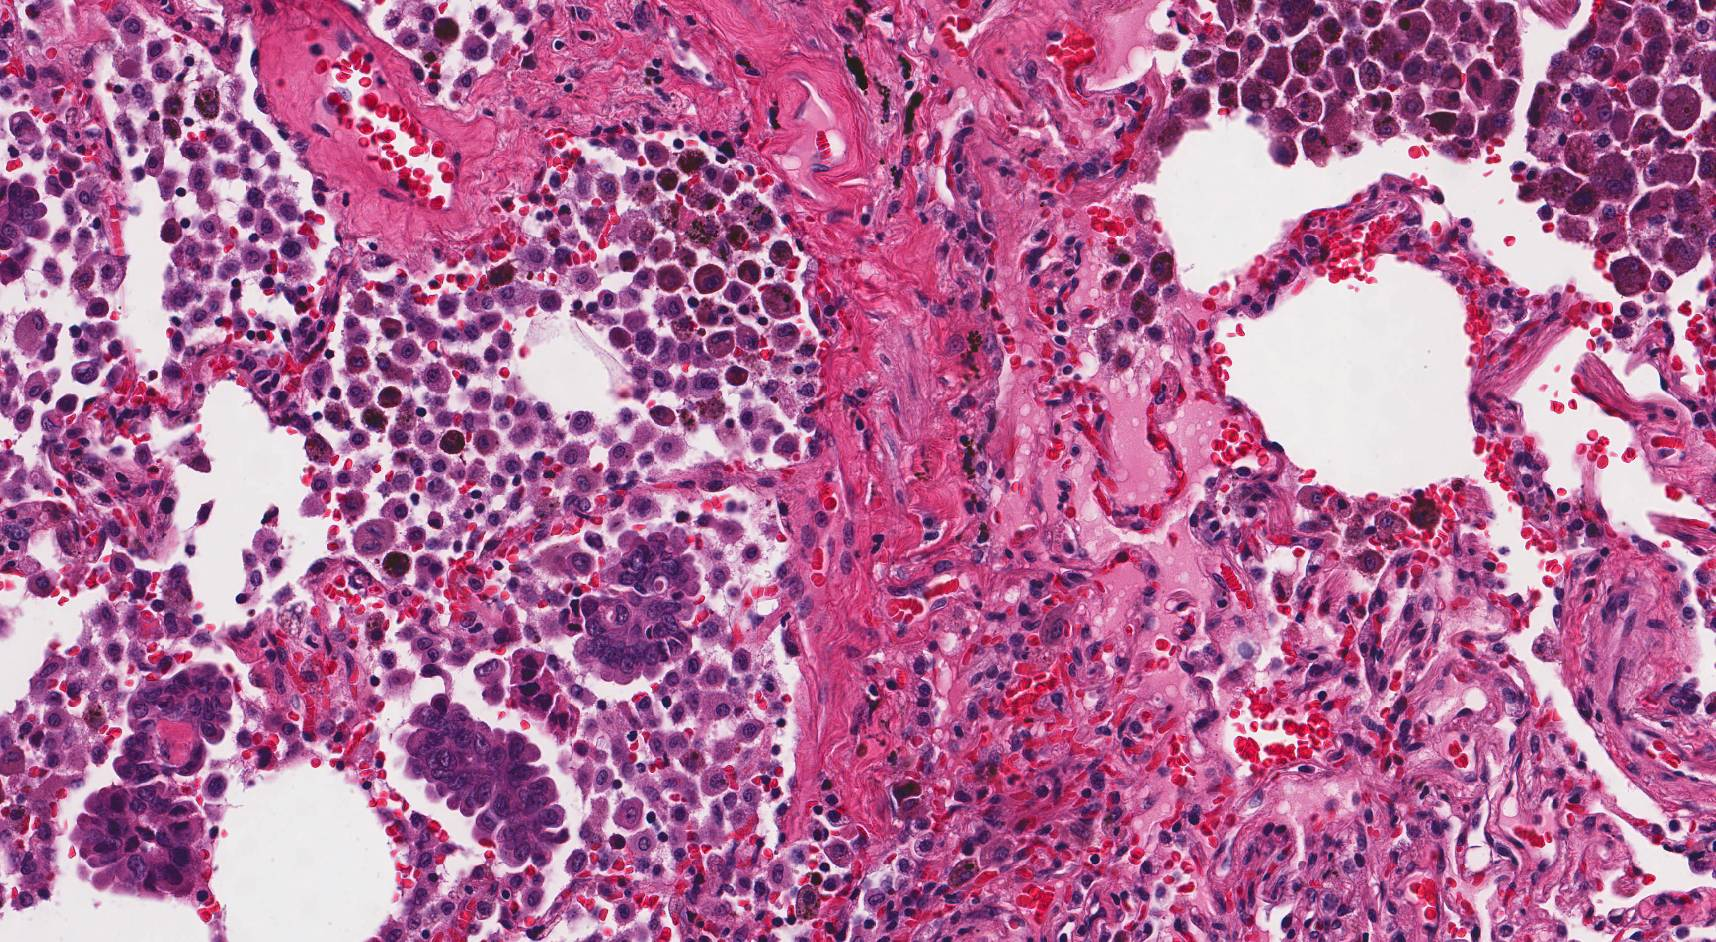stas: (406, 702, 567, 869), (577, 536, 702, 685), (111, 661, 236, 784), (73, 787, 202, 900)
